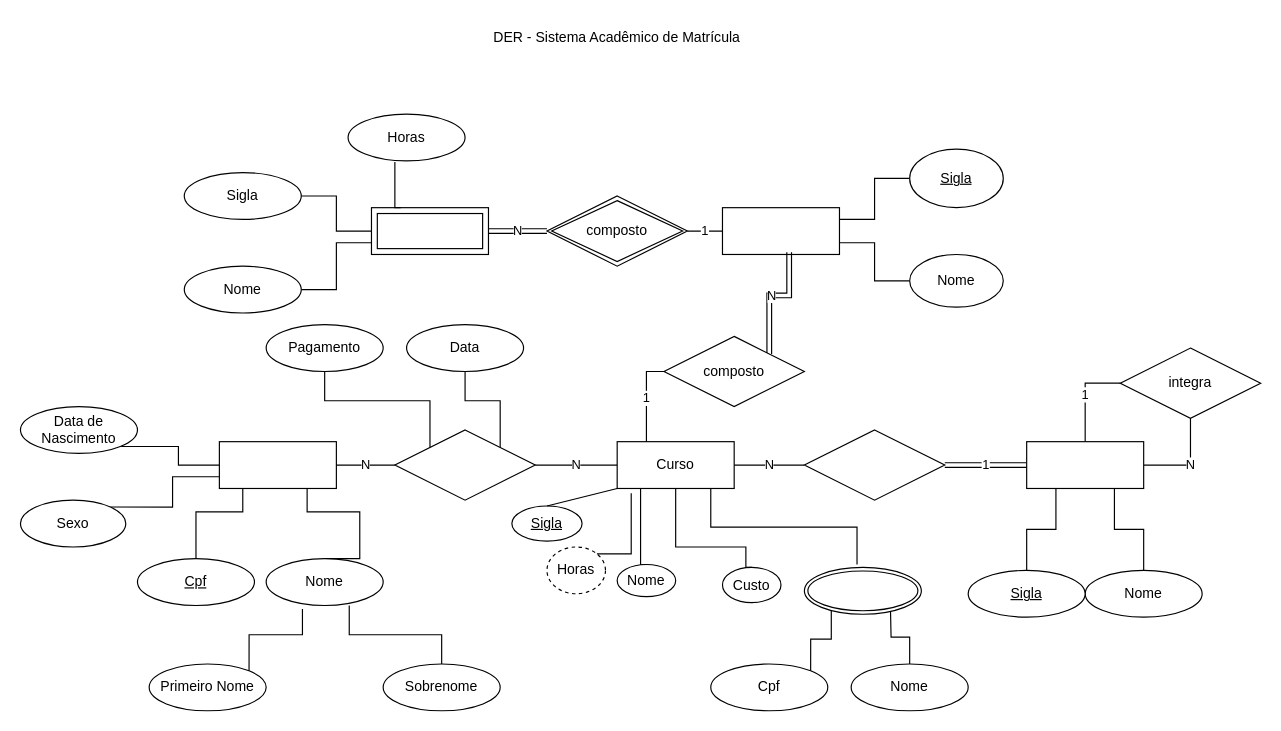
Some shapes in this 1281 by 731 pixel diagram are drawn without their labels. The shapes that lost their labels are listed below. From the top down, each one's centre as x and y in pixels, then its label:
At pixel 429 230: "Tópicos".
At pixel 780 230: "Módulo".
At pixel 277 464: "Aluno".
At pixel 464 464: "matricula".
At pixel 874 464: "categoriza".
At pixel 1085 464: "Área".
At pixel 862 590: "Professores".
